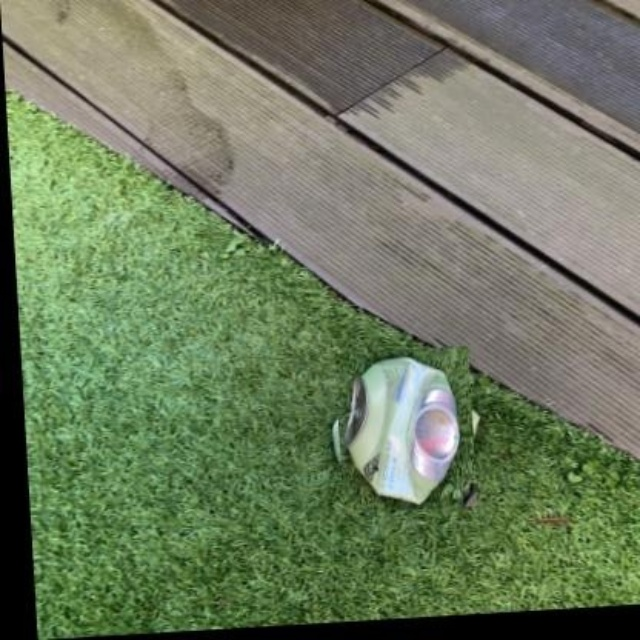trash: (345, 357, 458, 503)
